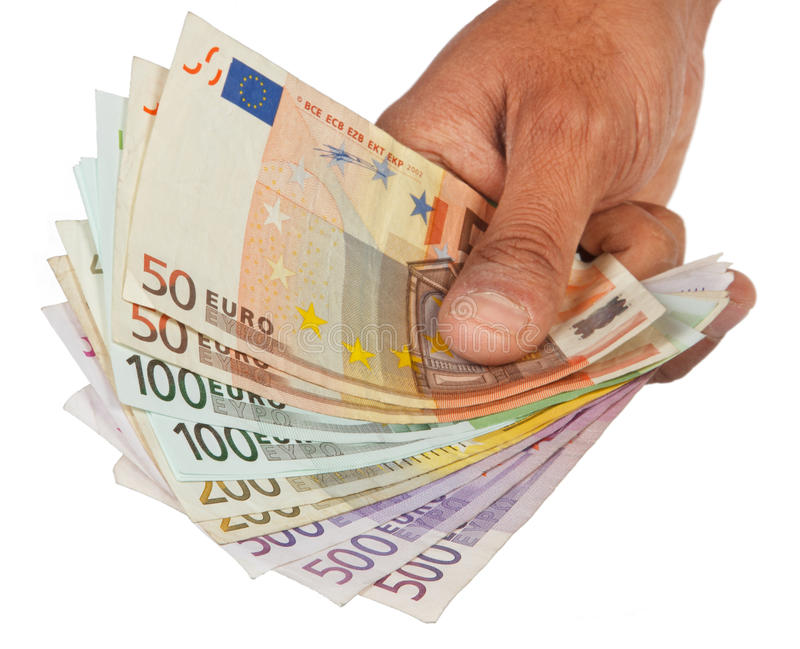billete: (38, 10, 742, 628)
